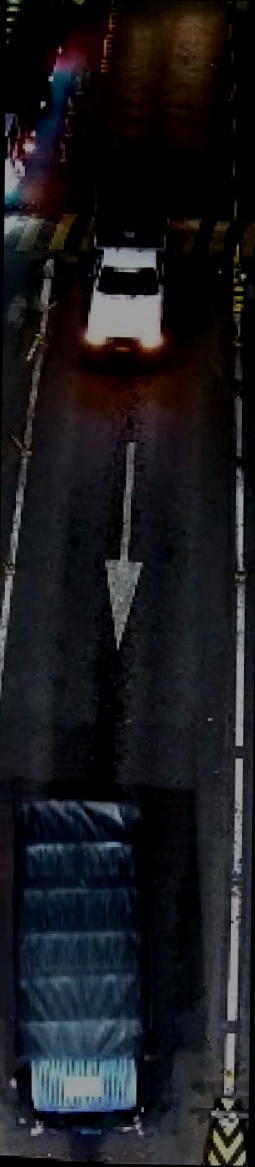car: (71, 237, 183, 367)
truck: (0, 778, 176, 1144)
